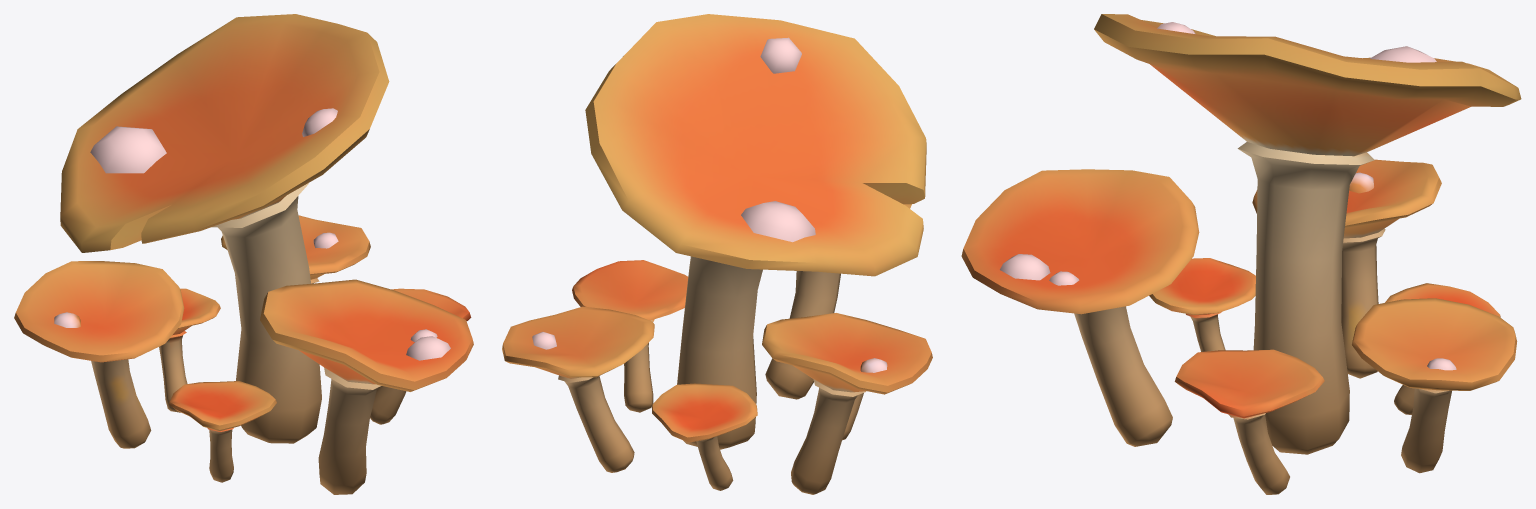
File: muhroom_2.fbx
3 renders of one model, left to right at view 1: azimuth 30°, elevation 25°; view 2: azimuth 150°, elevation 25°; view 3: azimuth 270°, elevation 25°, orthographic. The views are drawn at different scales.
Parts seen in each view (by area): view 1: muhroom_2; view 2: muhroom_2; view 3: muhroom_2.
Boxes of the visible parts, x1,y1,x2,y2 form: muhroom_2: (14,14,473,494); muhroom_2: (502,14,932,494); muhroom_2: (961,14,1521,494).
Bounding box in the file's own units: 42.43 × 41.65 × 46.75.
